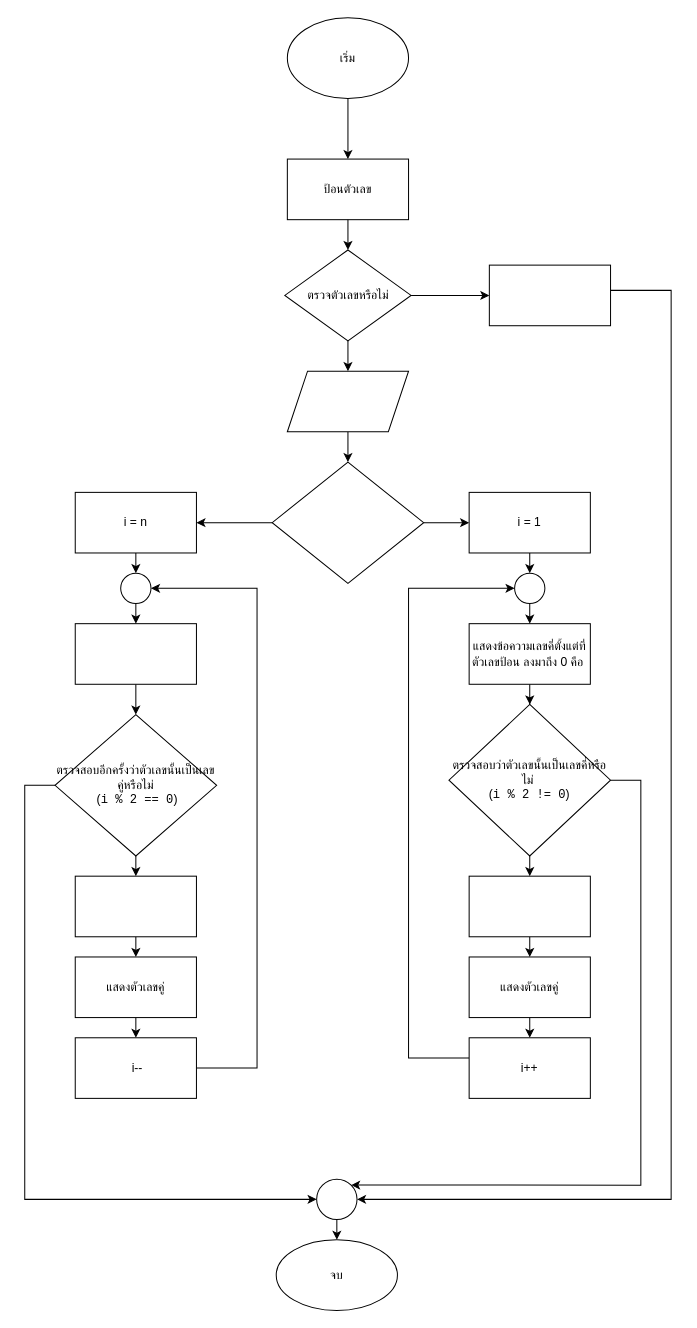
Image size: 697x1328. Some labels were removed from this diagram. The centre of each missing label's shape, as x and y in pixels:
"i <= n" belongs at pixel 529 906.
"i >= 0" belongs at pixel 135 906.
"กรุณากรอกตัวเลขเท่านั้น" belongs at pixel 549 295.
"ตัวเลข หารลงตัวหรือไม่่ (n % 2 == 0)" belongs at pixel 347 522.
"รับค่าตัวเลข(n)" belongs at pixel 347 401.
"แสดงข้อความเลขคู่ตั้งแต่ที่ตัวเลขป้อน ลงมาถึง 0 คือ" belongs at pixel 135 653.
